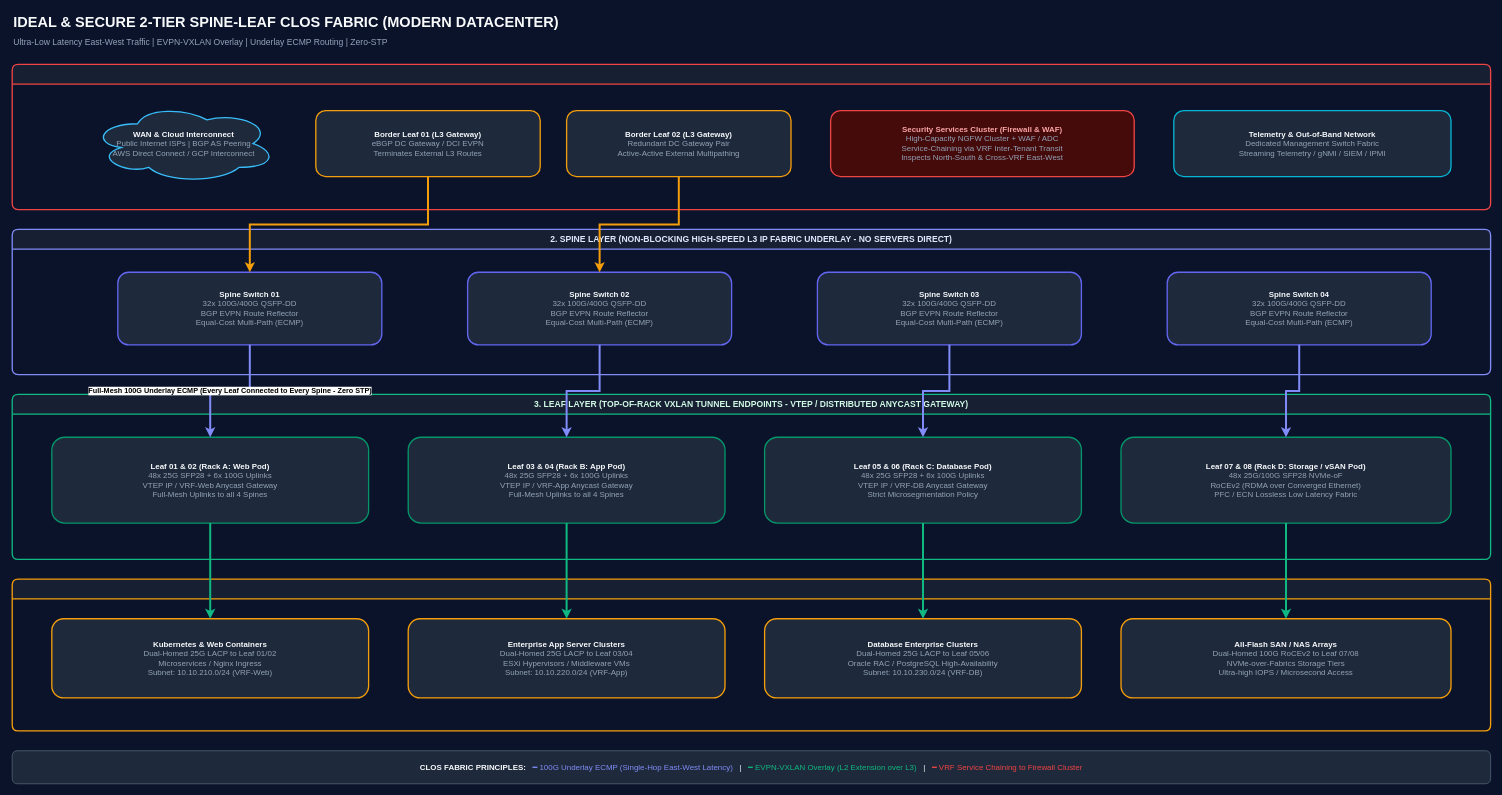
Image size: 1502x795. Some labels were removed from this diagram. Each missing label, with the box of its shape:
1. NORTH-SOUTH TRANSIT: BORDER LEAFS & SECURITY SERVICES CLUSTER: (11, 63, 1491, 210)
4. DATACENTER COMPUTE, VIRTUALIZATION & CLOUD NATIVE WORKLOADS: (11, 578, 1491, 731)
